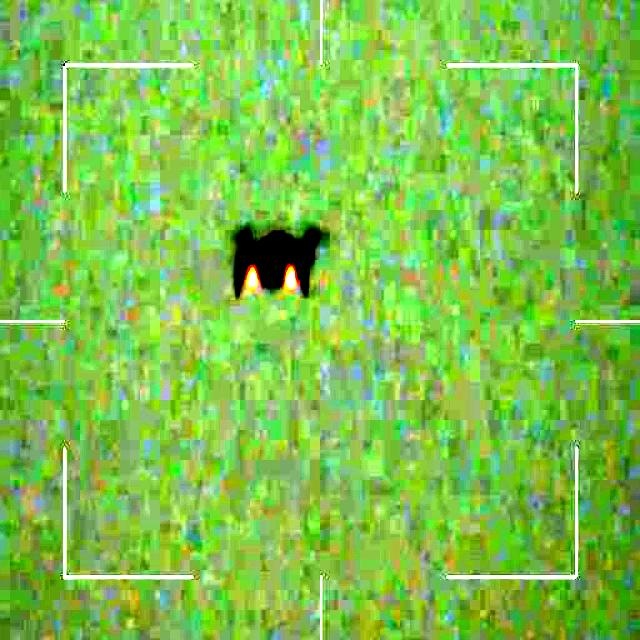bird: (229, 219, 329, 292)
